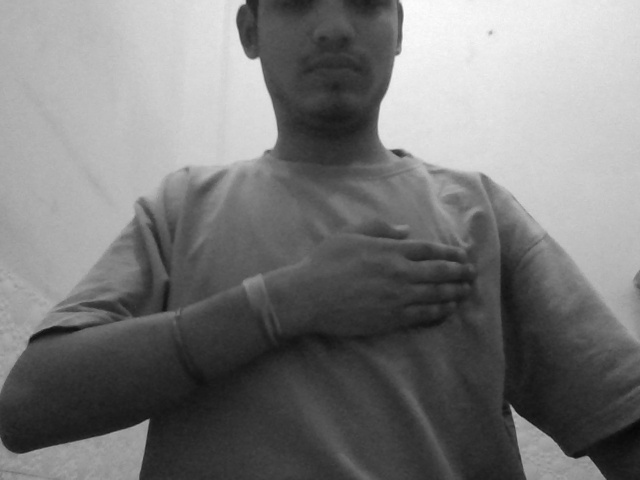Sorry: (282, 200, 491, 382)
